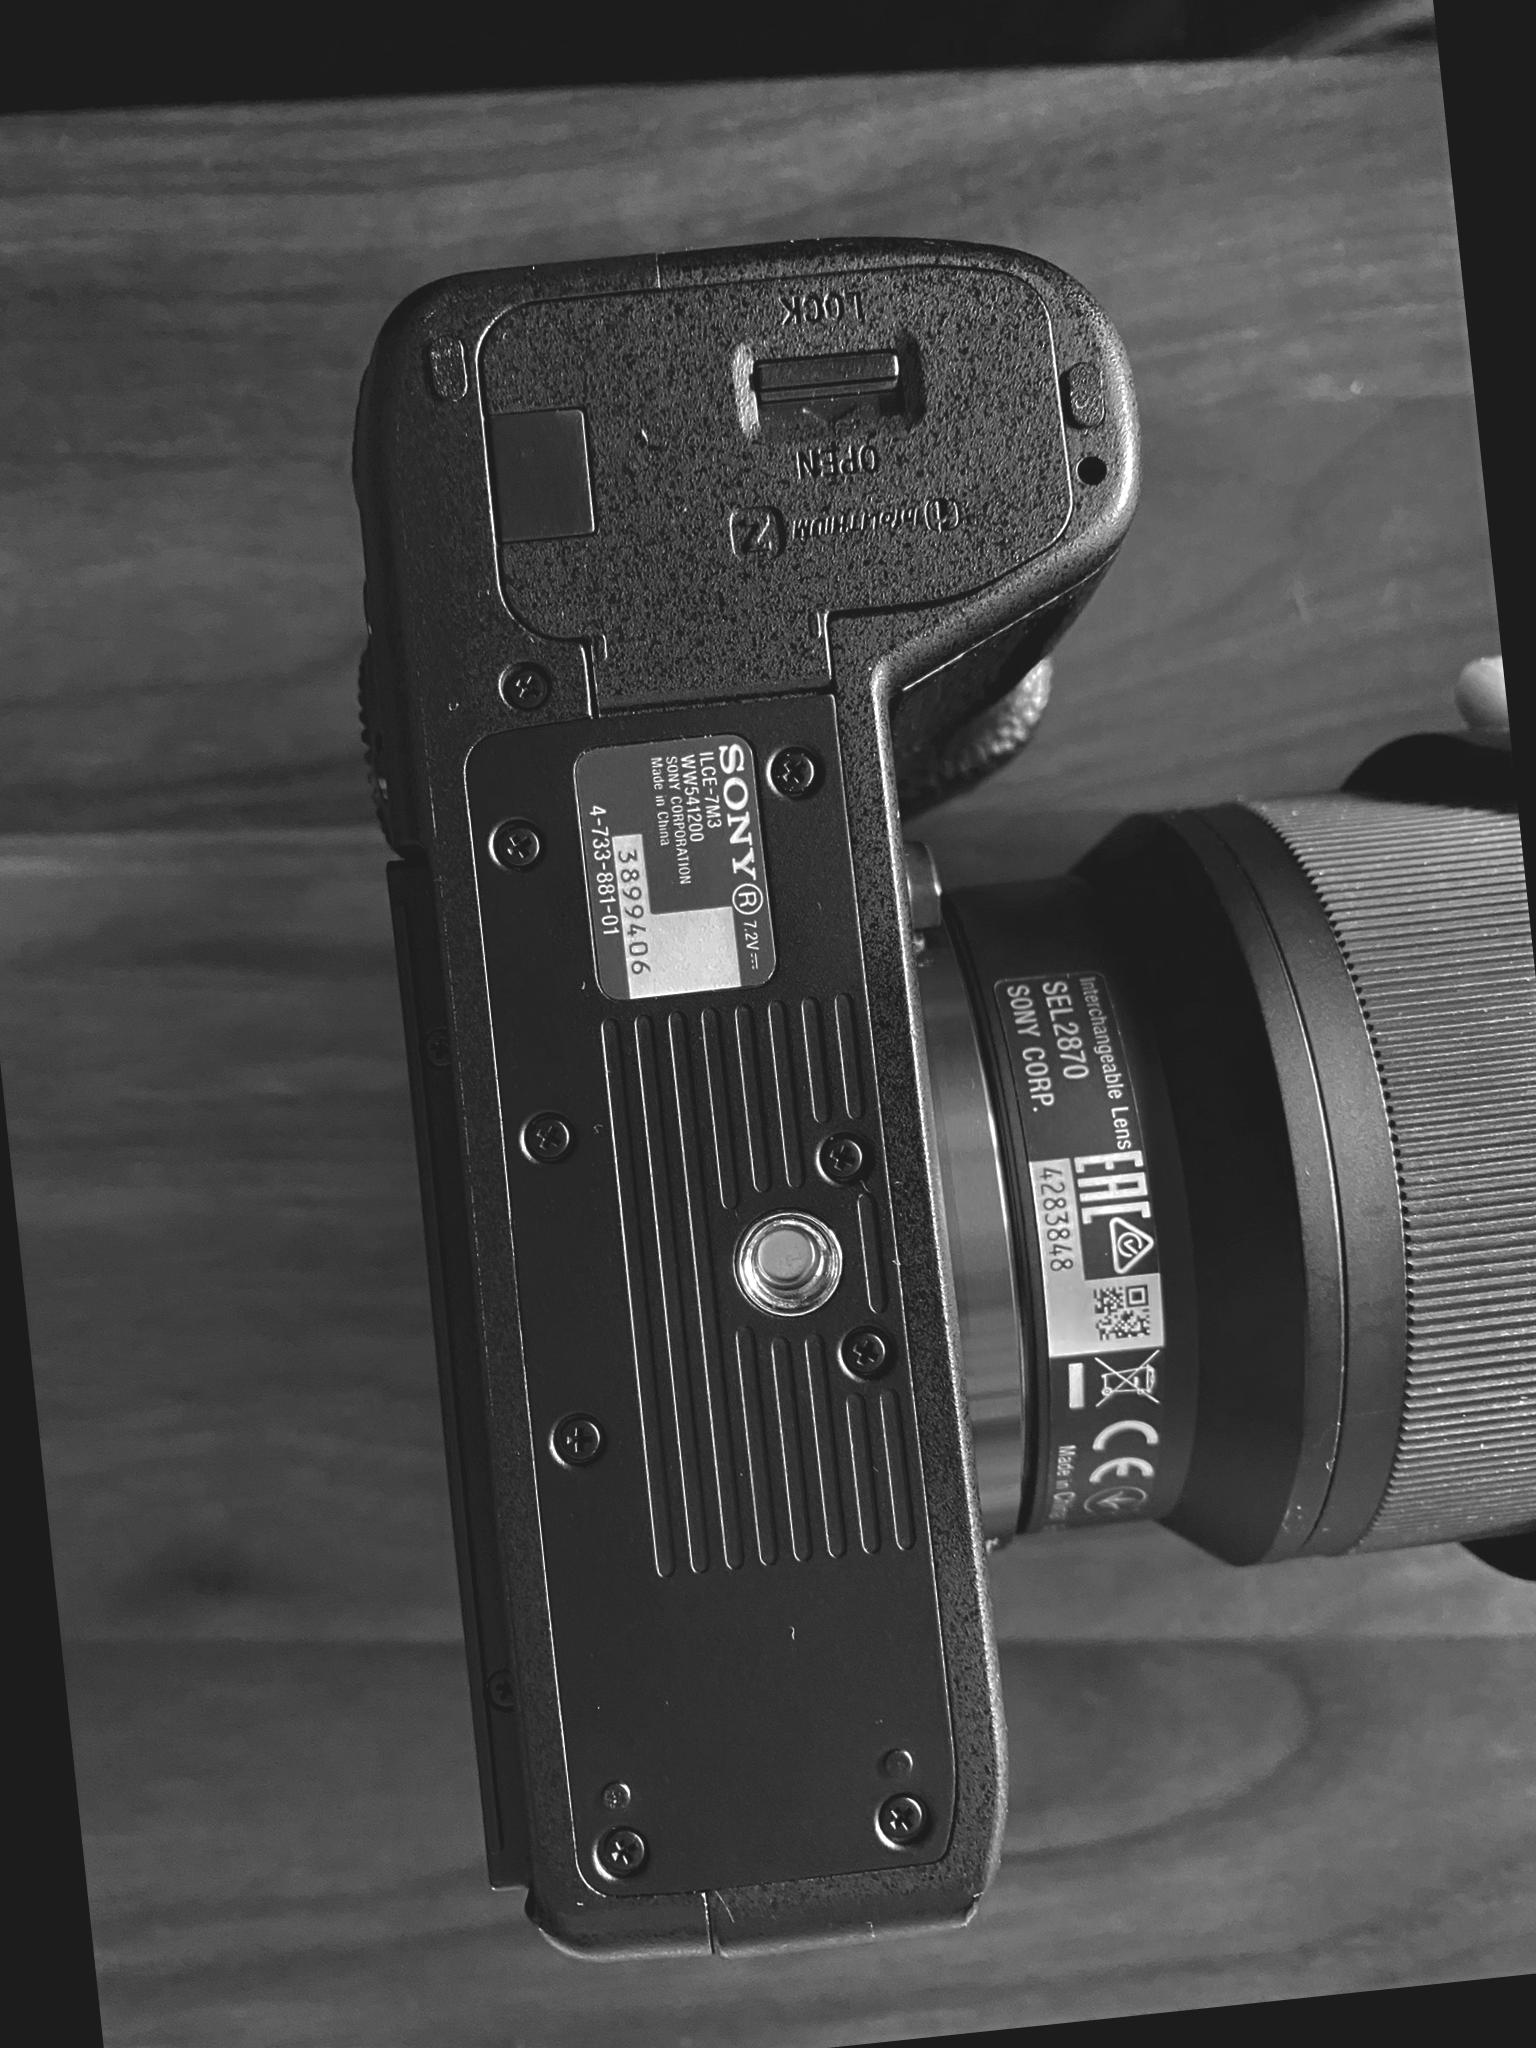screw: (494, 656, 557, 721), (549, 1403, 607, 1469), (870, 1790, 929, 1845), (591, 1824, 650, 1879), (489, 814, 544, 872), (763, 742, 816, 801), (516, 1108, 573, 1163), (837, 1321, 891, 1379), (815, 1129, 865, 1185)
